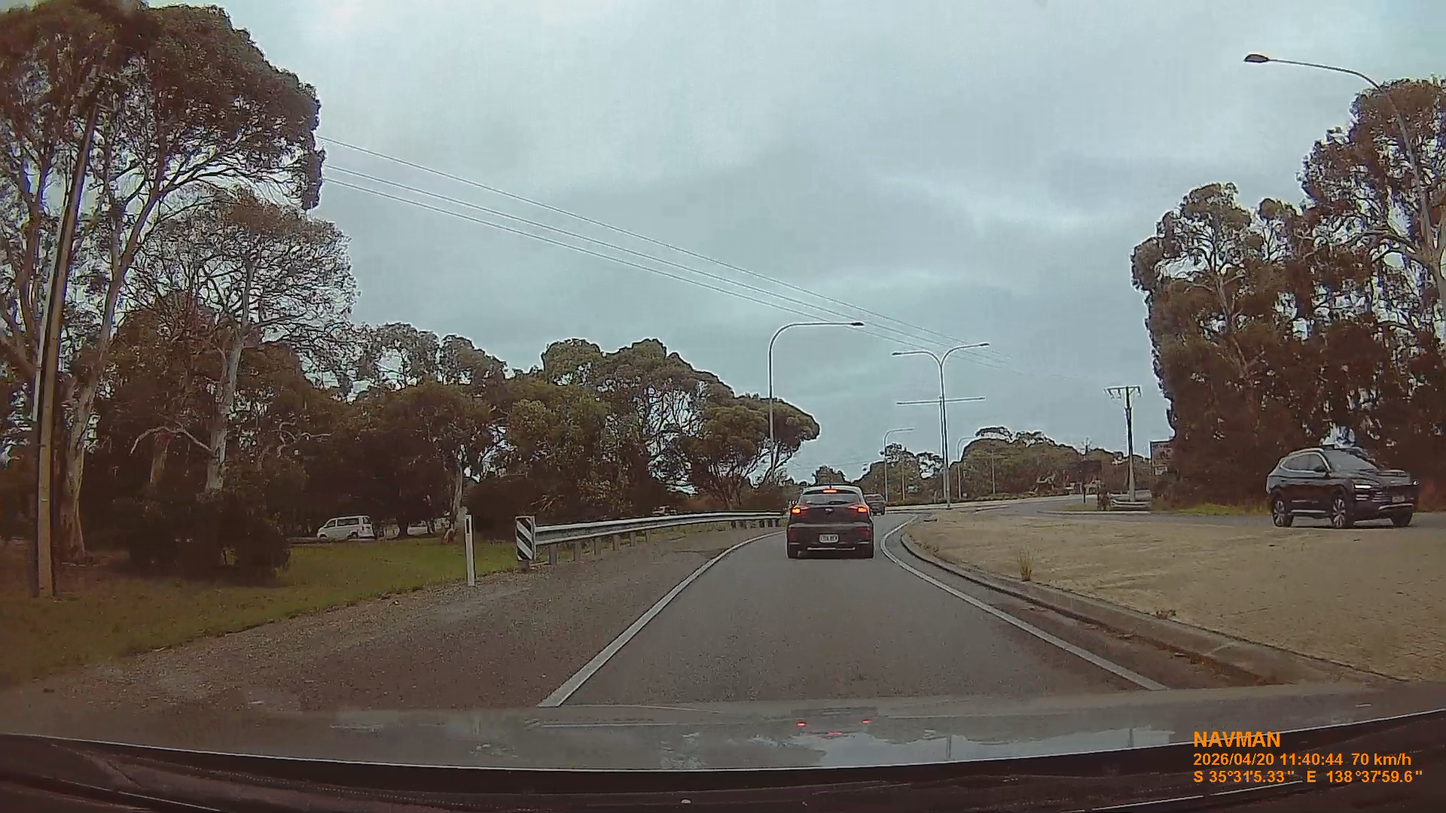road barriers: (517, 510, 779, 569)
